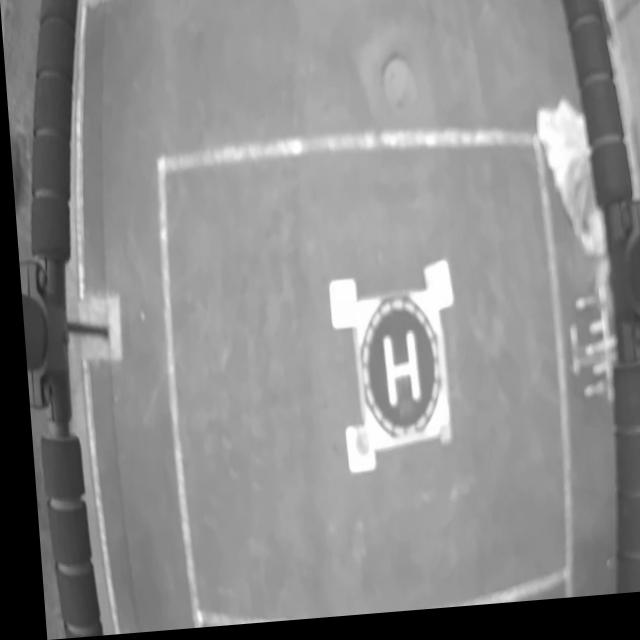Helipad: (376, 336, 415, 417)
